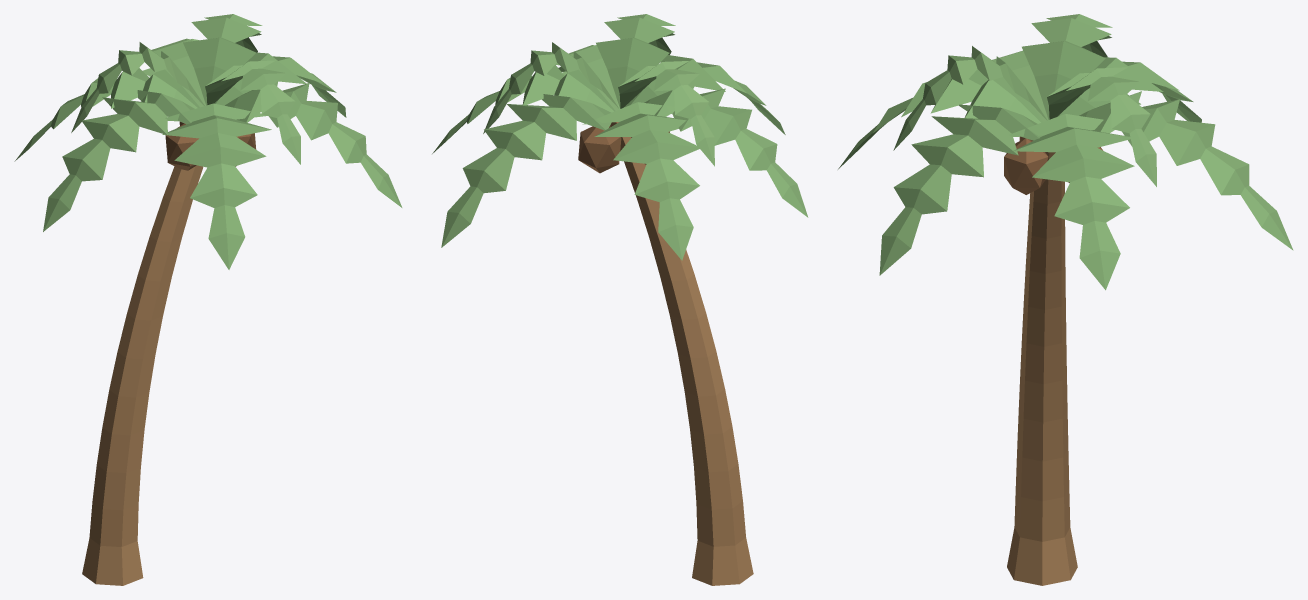
The model's file is tree-palm-curved.glb.
The picture shows the model from 3 angles, left to right: view 1: azimuth 30°, elevation 25°; view 2: azimuth 150°, elevation 25°; view 3: azimuth 270°, elevation 25°; orthographic projection. The views are drawn at different scales.
Parts seen in each view (by area): view 1: tree-palm-curved; view 2: tree-palm-curved; view 3: tree-palm-curved.
Boxes of the visible parts, <box> form: tree-palm-curved: <box>14,14,402,585</box>; tree-palm-curved: <box>432,14,808,585</box>; tree-palm-curved: <box>838,14,1293,585</box>.
Size of the model in its own units: 3 by 4.28 by 3.06.
